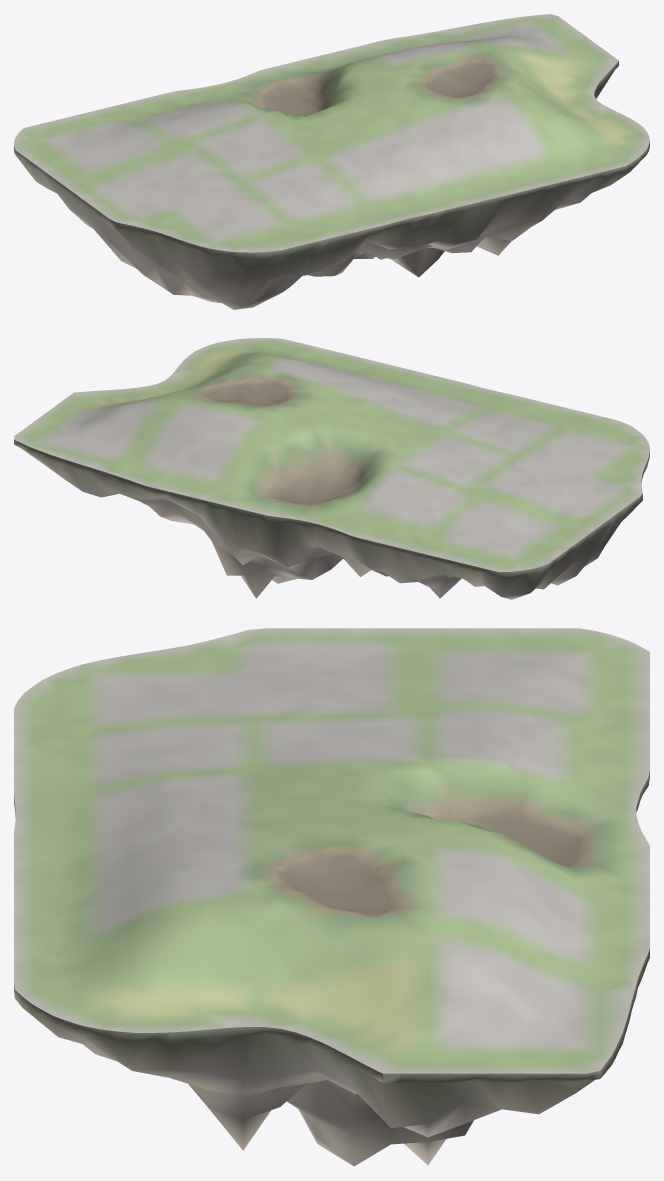
File: SKY-026.rock.glb
The picture shows the model from 3 angles, top to bottom: view 1: azimuth 30°, elevation 25°; view 2: azimuth 150°, elevation 25°; view 3: azimuth 270°, elevation 25°; orthographic projection. The views are drawn at different scales.
Parts seen in each view (by area): view 1: deck-col, rock; view 2: deck-col, rock; view 3: deck-col, rock.
Part boxes in pixels (bbox=[...]): deck-col: bbox=[14, 14, 649, 252]; rock: bbox=[14, 61, 649, 309]; deck-col: bbox=[14, 338, 649, 572]; rock: bbox=[14, 440, 649, 599]; deck-col: bbox=[14, 628, 649, 1073]; rock: bbox=[14, 770, 649, 1166].
Size of the model in its own units: 171 by 56.34 by 103.
